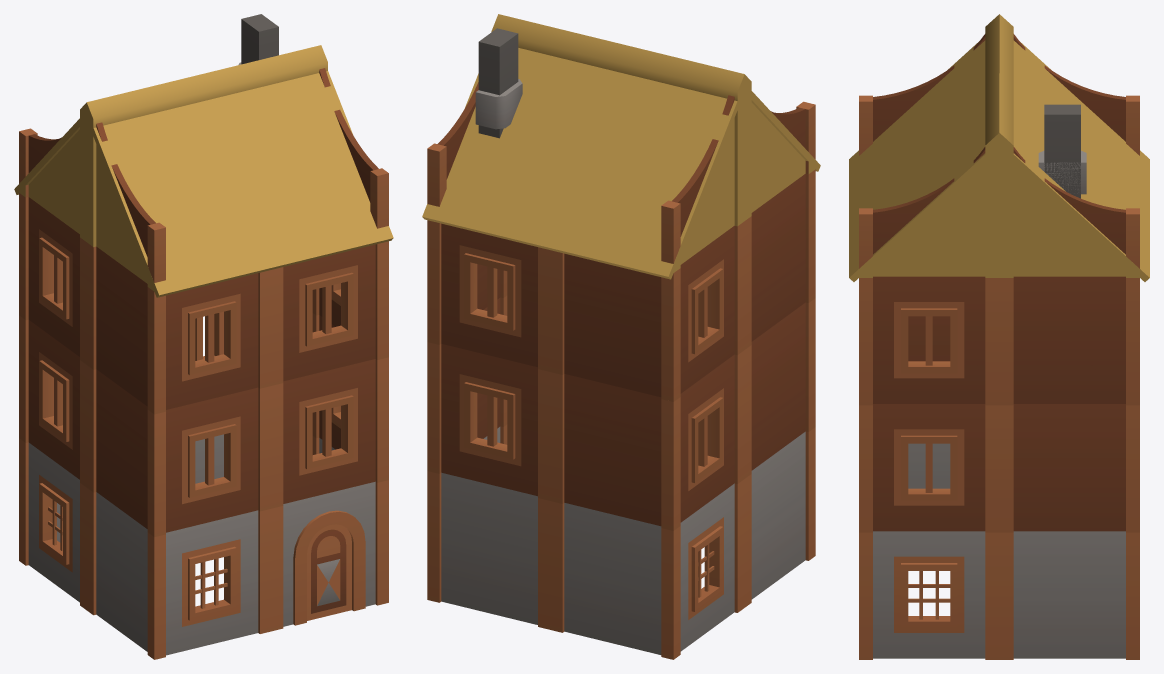
Rendered from maison-vent-1.glb.
3 views of the same model, side by side, from view 1: azimuth 30°, elevation 25°; view 2: azimuth 150°, elevation 25°; view 3: azimuth 270°, elevation 25° (orthographic). The views are drawn at different scales.
Parts seen in each view (by area): view 1: wall-window-shutters, roof-high; view 2: wall-window-shutters, roof-high; view 3: wall-window-shutters, roof-high.
Boxes of the visible parts, x1,y1,x2,y2 form: wall-window-shutters: [19, 14, 388, 659]; roof-high: [14, 45, 393, 297]; wall-window-shutters: [427, 28, 815, 659]; roof-high: [422, 14, 820, 279]; wall-window-shutters: [859, 34, 1139, 659]; roof-high: [849, 14, 1149, 281].
Size of the model in its own units: 6 by 12.6 by 6.42.
2 materials, 1 textured.
